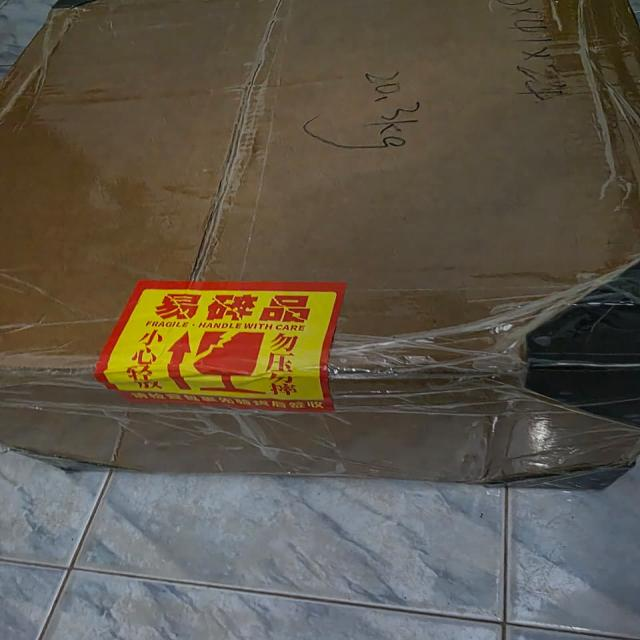carton_box: (0, 0, 640, 502)
fragile_label: (188, 324, 268, 404)
package_damage: (477, 296, 582, 411)
this_side_up_label: (158, 325, 199, 394)
